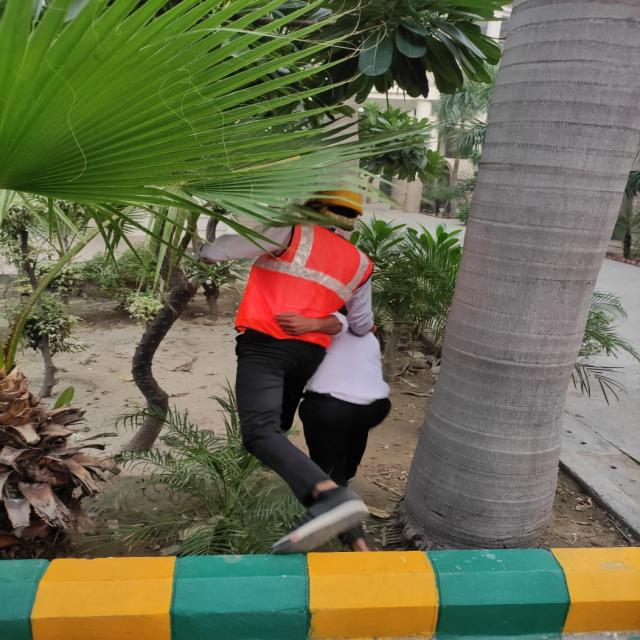safe: (229, 183, 361, 545)
